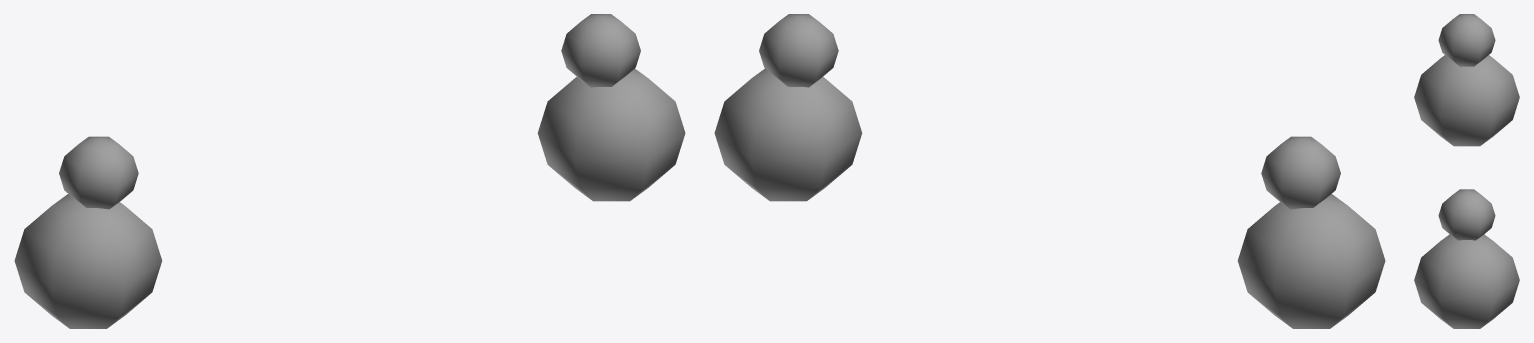
Rendered from earrings_gold 1.fbx.
3 views of the same model, side by side, from view 1: azimuth 30°, elevation 25°; view 2: azimuth 150°, elevation 25°; view 3: azimuth 270°, elevation 25° (orthographic). The views are drawn at different scales.
Parts seen in each view (by area): view 1: earrings_gold; view 2: earrings_gold; view 3: earrings_gold.
Boxes of the visible parts, x1,y1,x2,y2 form: earrings_gold: (14, 14, 685, 328); earrings_gold: (714, 14, 1385, 328); earrings_gold: (1414, 14, 1519, 328).
Size of the model in its own units: 160 by 44.03 by 32.4.
1 material, 1 textured.
